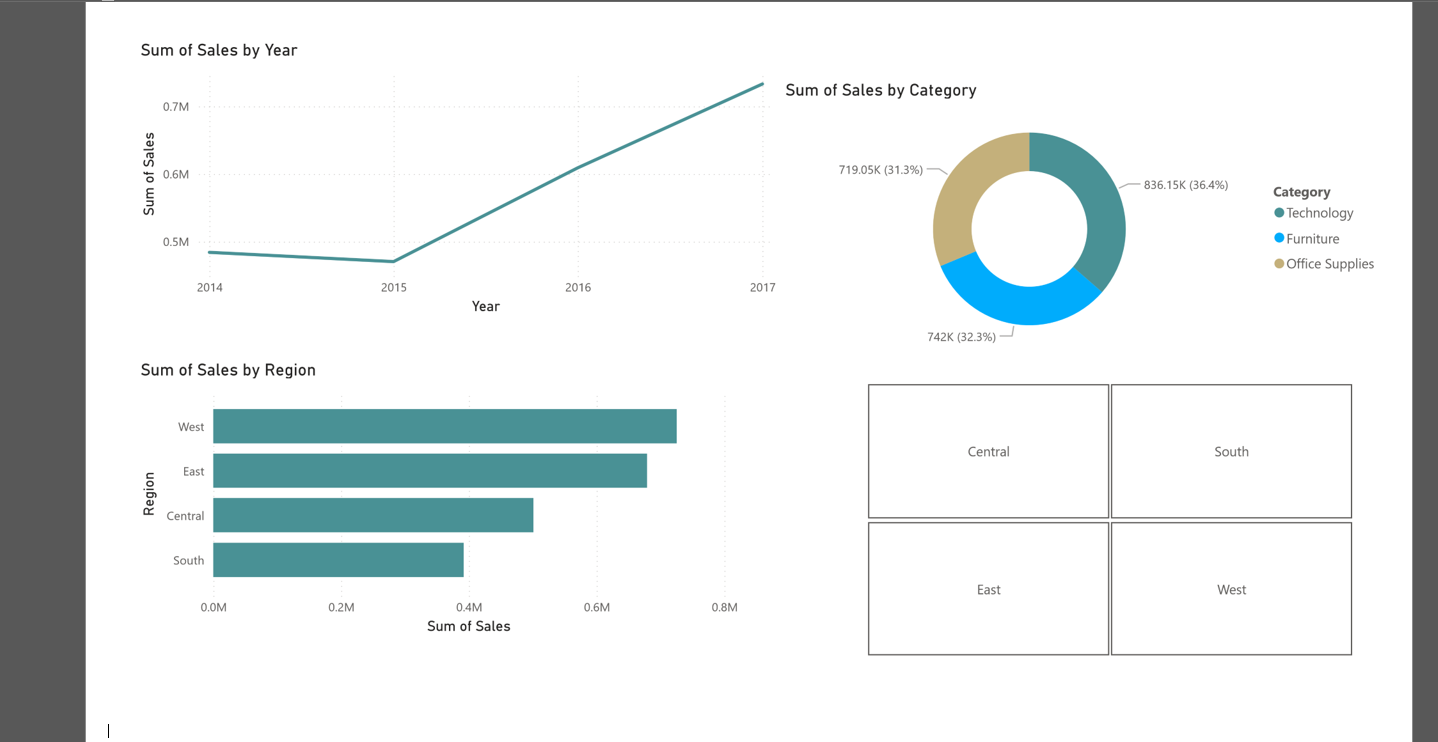

What the dashboard file says about the page in this screenshot:
{"tool":"powerbi","page":{"name":"Page 1","canvas":[1280,720],"ordinal":0},"visuals":[{"type":"lineChart","fields":{"Category":["Sample - Superstore.MonthYear.Variation.Date Hierarchy.Year","Sample - Superstore.MonthYear.Variation.Date Hierarchy.Quarter","Sample - Superstore.MonthYear.Variation.Date Hierarchy.Month","Sample - Superstore.MonthYear.Variation.Date Hierarchy.Day"],"Y":["Sum(Sample - Superstore.Sales)"]},"box":[27.4,22,644.9,279.9],"z":0},{"type":"barChart","fields":{"Category":["Sample - Superstore.Region"],"Y":["Sum(Sample - Superstore.Sales)"]},"box":[27.4,341.7,607.9,279.9],"z":1000},{"type":"donutChart","fields":{"Category":["Sample - Superstore.Category"],"Y":["Sum(Sample - Superstore.Sales)"]},"box":[672.4,61.7,607.9,279.9],"z":2000},{"type":"slicer","fields":{"Values":["Sample - Superstore.Region"]},"box":[734.1,359.5,533.8,285.4],"z":2001}]}

Visuals, with their boxes on the page's 1280x720 design canvas (x1, y1, x2, y2). These are canvas units, not pixel positions in the 1438x742 screenshot, which may show the page scaled, cropped or inside an application window:
lineChart - Sample - Superstore.MonthYear.Variation.Date Hierarchy.Year x Sample - Superstore.MonthYear.Variation.Date Hierarchy.Quarter: [left=27, top=22, right=672, bottom=302]
barChart - Sample - Superstore.Region x Sum(Sample - Superstore.Sales): [left=27, top=342, right=635, bottom=622]
donutChart - Sample - Superstore.Category x Sum(Sample - Superstore.Sales): [left=672, top=62, right=1280, bottom=342]
slicer - Sample - Superstore.Region: [left=734, top=360, right=1268, bottom=645]
